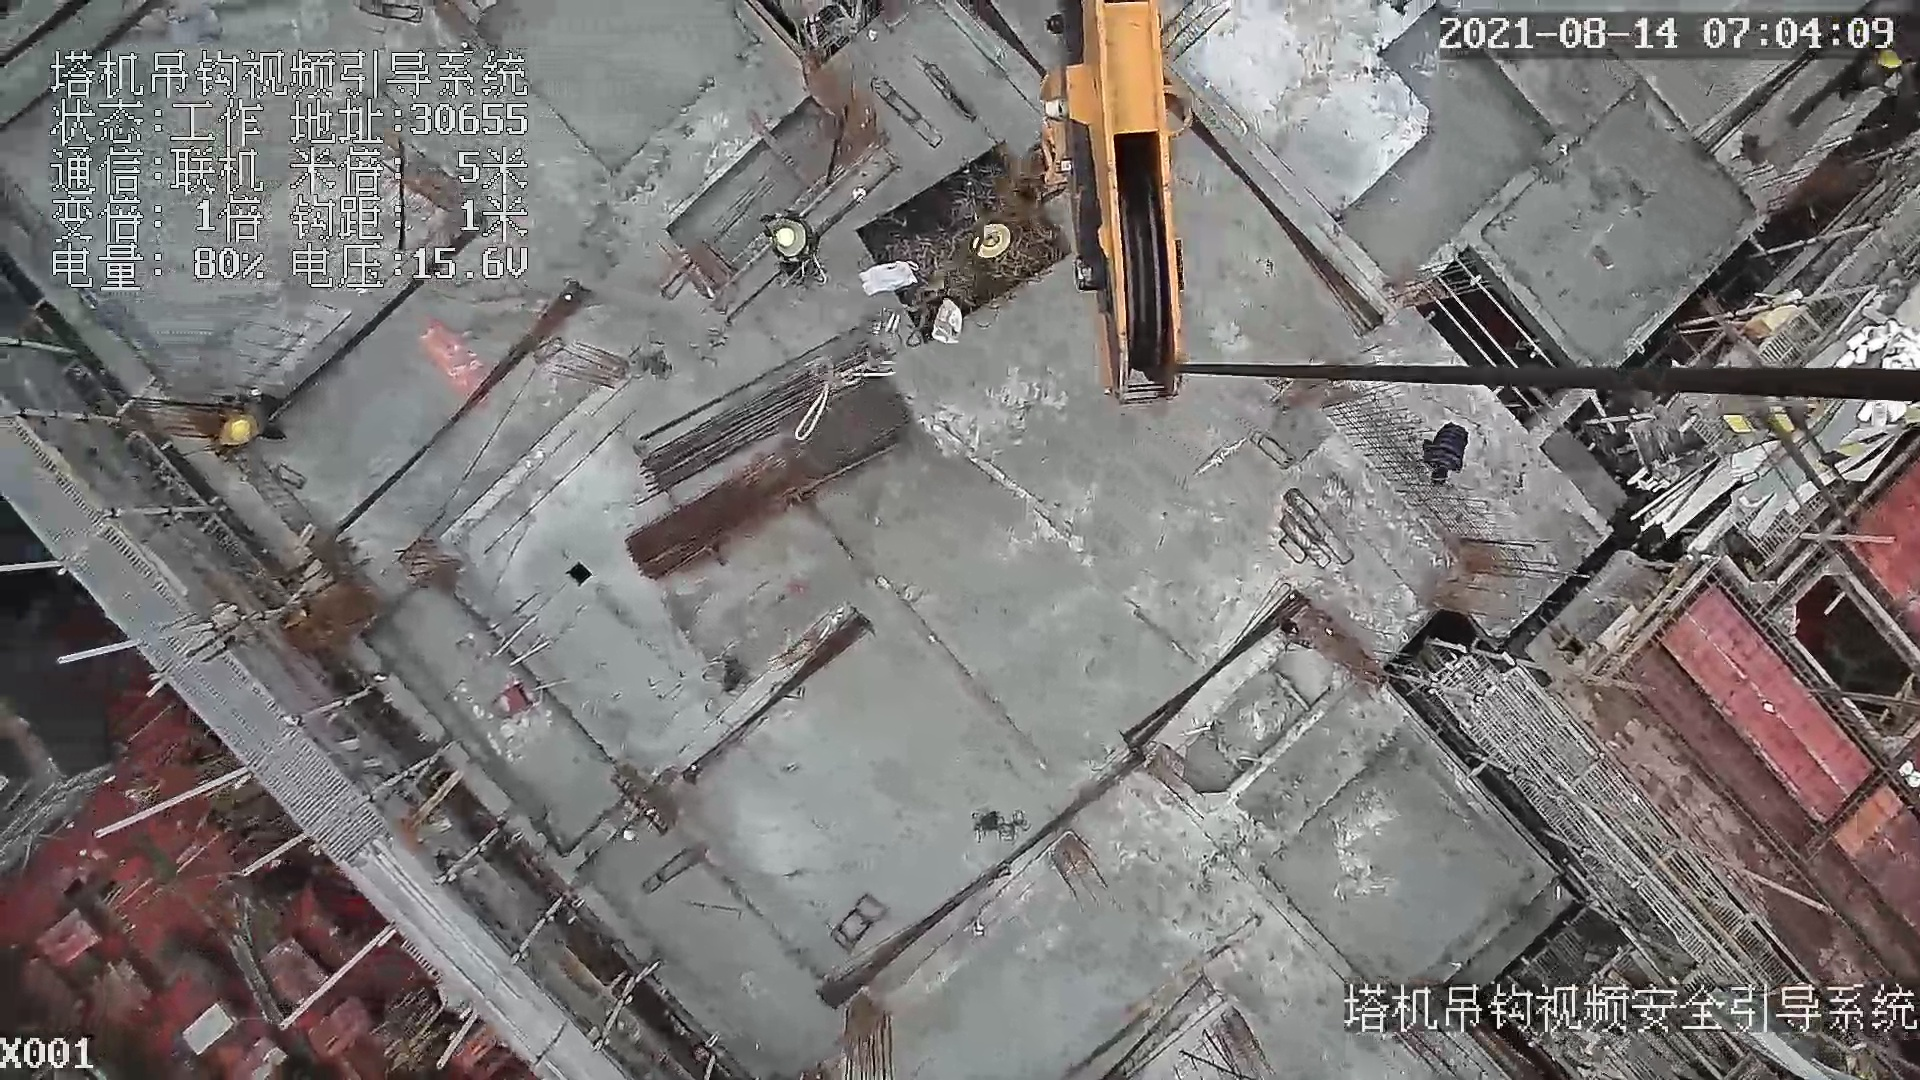hook: (1015, 1, 1196, 412)
person: (763, 212, 822, 290), (1424, 421, 1471, 489)
